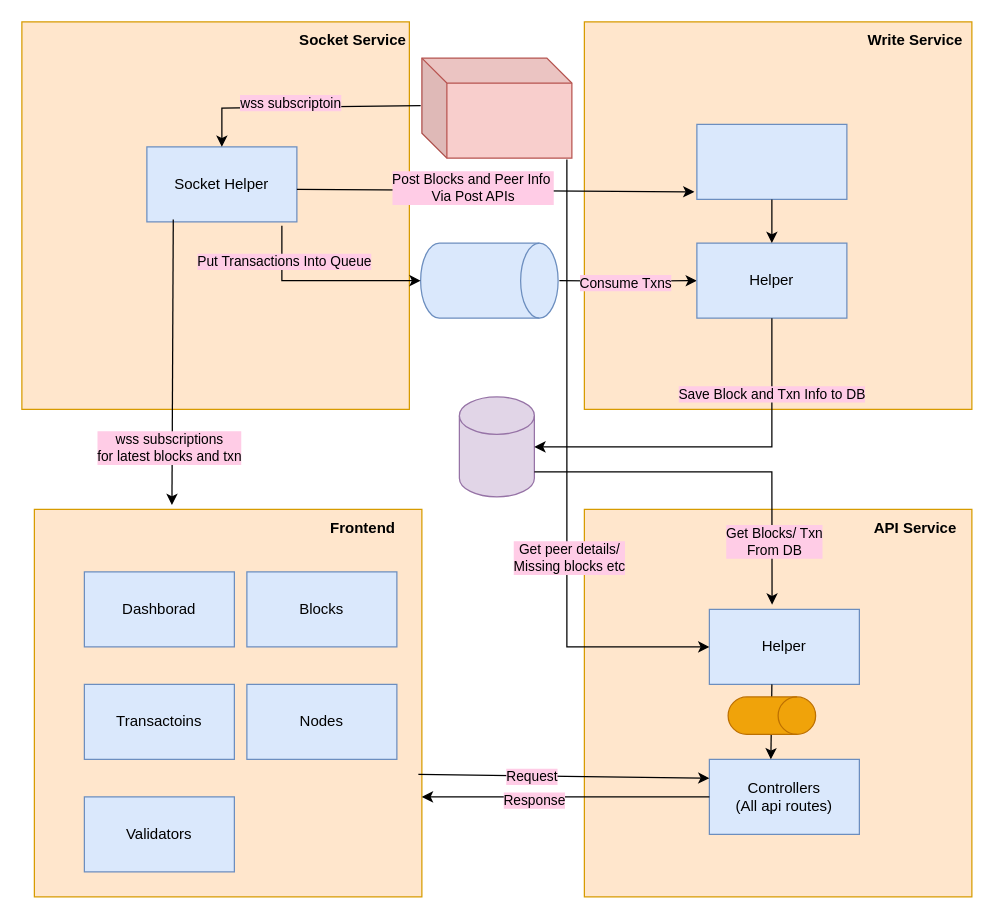
This 994x919 diagram has some shape labels left out. The shapes that lost their labels are listed below. From the top down, each one's centre as x and y in pixels, then its label:
At point 496,107: "5ire Node".
At point 771,161: "Controllers".
At point 488,280: "RabbitMq".
At point 496,446: "DB (Postgre)".
At point 771,715: "Redis".
